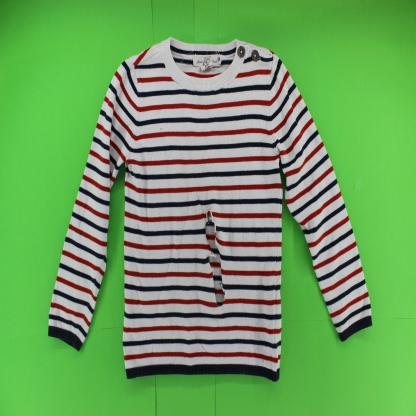hole: (201, 199, 229, 313)
